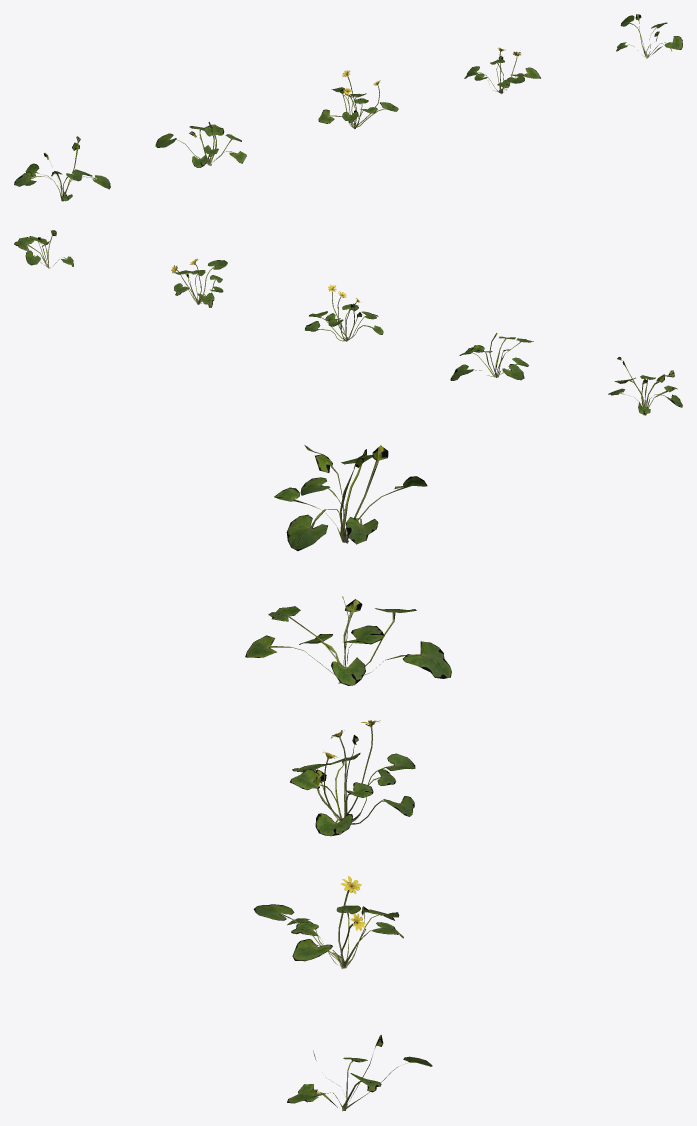
File: celandine_01.glb
3 renders of one model, top to bottom at view 1: azimuth 30°, elevation 25°; view 2: azimuth 150°, elevation 25°; view 3: azimuth 270°, elevation 25°, orthographic. The views are drawn at different scales.
Parts seen in each view (by area): view 1: celandine_01_b_LOD0, celandine_01_c_LOD0, celandine_01_a_LOD0, celandine_01_d_LOD0, celandine_01_e_LOD0; view 2: celandine_01_c_LOD0, celandine_01_b_LOD0, celandine_01_d_LOD0, celandine_01_a_LOD0, celandine_01_e_LOD0; view 3: celandine_01_b_LOD0, celandine_01_a_LOD0, celandine_01_c_LOD0, celandine_01_d_LOD0, celandine_01_e_LOD0.
Part boxes in pixels (x1=…): celandine_01_b_LOD0: x1=155, y1=122, x2=246, y2=167; celandine_01_c_LOD0: x1=318, y1=70, x2=398, y2=128; celandine_01_a_LOD0: x1=14, y1=136, x2=110, y2=201; celandine_01_d_LOD0: x1=464, y1=47, x2=540, y2=93; celandine_01_e_LOD0: x1=616, y1=14, x2=682, y2=58; celandine_01_c_LOD0: x1=305, y1=284, x2=383, y2=341; celandine_01_b_LOD0: x1=450, y1=333, x2=533, y2=380; celandine_01_d_LOD0: x1=171, y1=258, x2=227, y2=307; celandine_01_a_LOD0: x1=608, y1=357, x2=682, y2=415; celandine_01_e_LOD0: x1=14, y1=230, x2=73, y2=268; celandine_01_b_LOD0: x1=245, y1=596, x2=451, y2=685; celandine_01_a_LOD0: x1=274, y1=445, x2=427, y2=550; celandine_01_c_LOD0: x1=290, y1=720, x2=415, y2=836; celandine_01_d_LOD0: x1=253, y1=876, x2=403, y2=968; celandine_01_e_LOD0: x1=287, y1=1035, x2=432, y2=1111.
Size of the model in its own units: 2.24 by 0.185 by 0.3067.
1 material, 1 textured.
